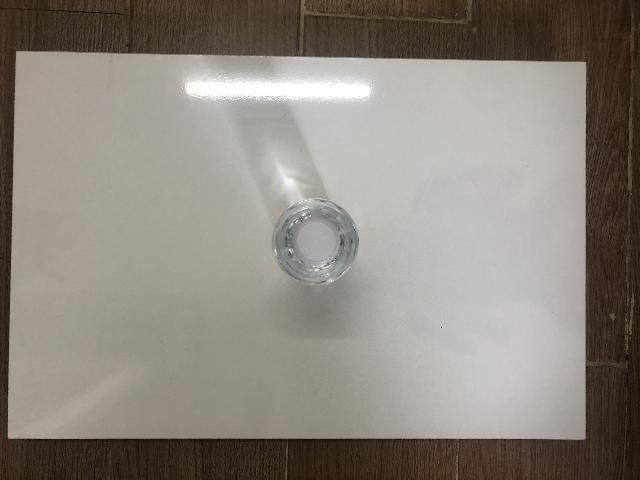aquafina: (272, 200, 360, 288)
